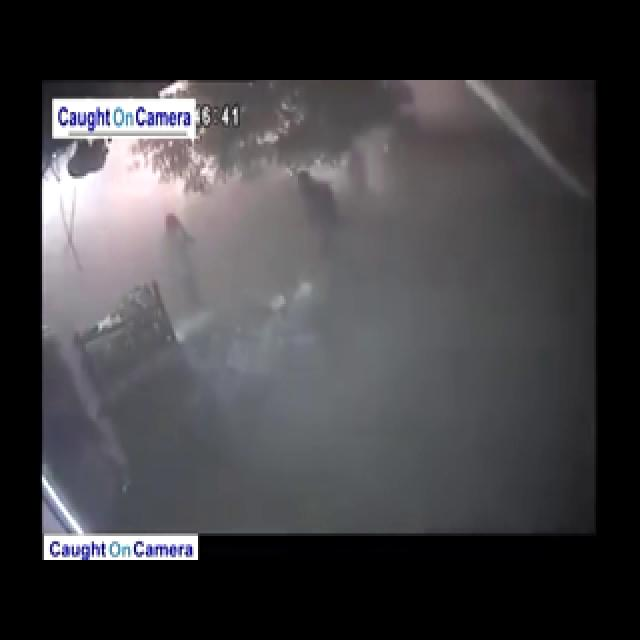explosion: (43, 46, 503, 614)
